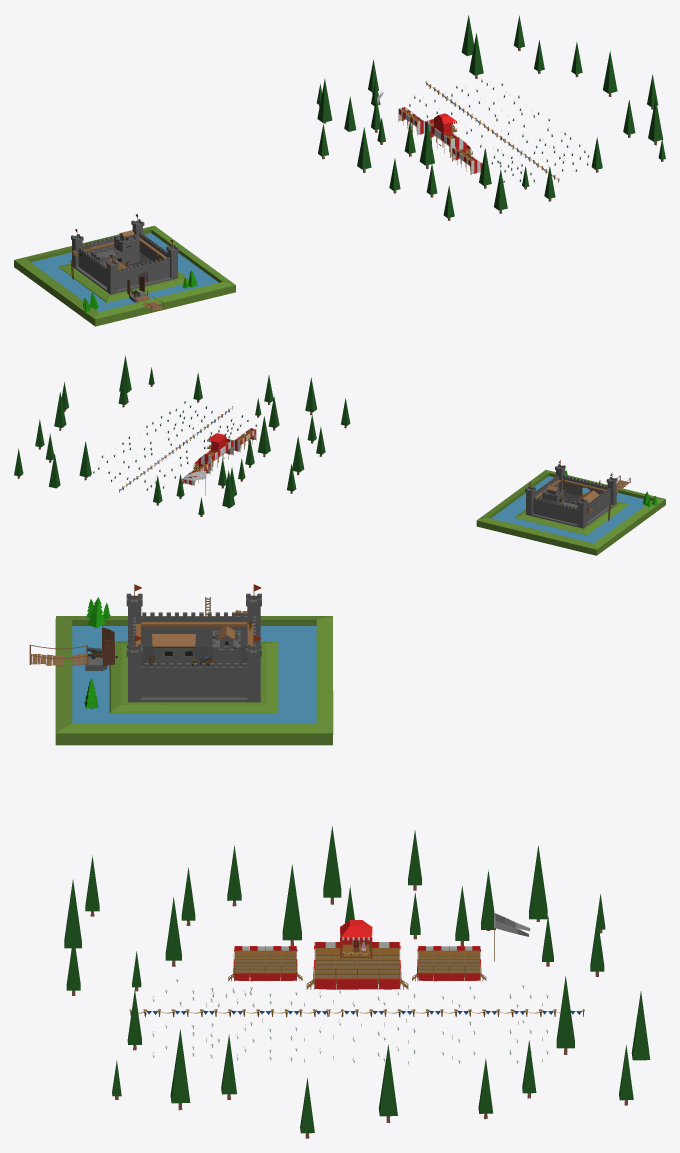
File: JoustArena.glb
3 views of the same model, one above another, from view 1: azimuth 30°, elevation 25°; view 2: azimuth 150°, elevation 25°; view 3: azimuth 270°, elevation 25° (orthographic). The views are drawn at different scales.
Parts seen in each view (by area): view 1: Castle, Platform_01; view 2: Castle, Platform_01; view 3: Castle, Platform_01, Platform_01_0.001, Platform_01_0.002, Bridge, Tree_01_0.007, Tree_01_0.018, Tree_01_0.023, Tent, Tree_01_0.002.
Part boxes in pixels (bbox=[...]): Castle: bbox=[14, 214, 235, 326]; Platform_01: bbox=[425, 119, 472, 157]; Castle: bbox=[476, 460, 665, 555]; Platform_01: bbox=[193, 438, 233, 471]; Castle: bbox=[55, 584, 333, 745]; Platform_01: bbox=[306, 942, 408, 989]; Platform_01_0.001: bbox=[412, 946, 486, 981]; Platform_01_0.002: bbox=[228, 946, 302, 981]; Bridge: bbox=[29, 644, 107, 670]; Tree_01_0.007: bbox=[282, 864, 301, 940]; Tree_01_0.018: bbox=[529, 845, 547, 919]; Tree_01_0.023: bbox=[170, 1029, 190, 1103]; Tent: bbox=[340, 920, 372, 958]; Tree_01_0.002: bbox=[556, 976, 574, 1048].
Size of the model in its own units: 177 by 15.48 by 87.87.
539 materials, 1 textured.
